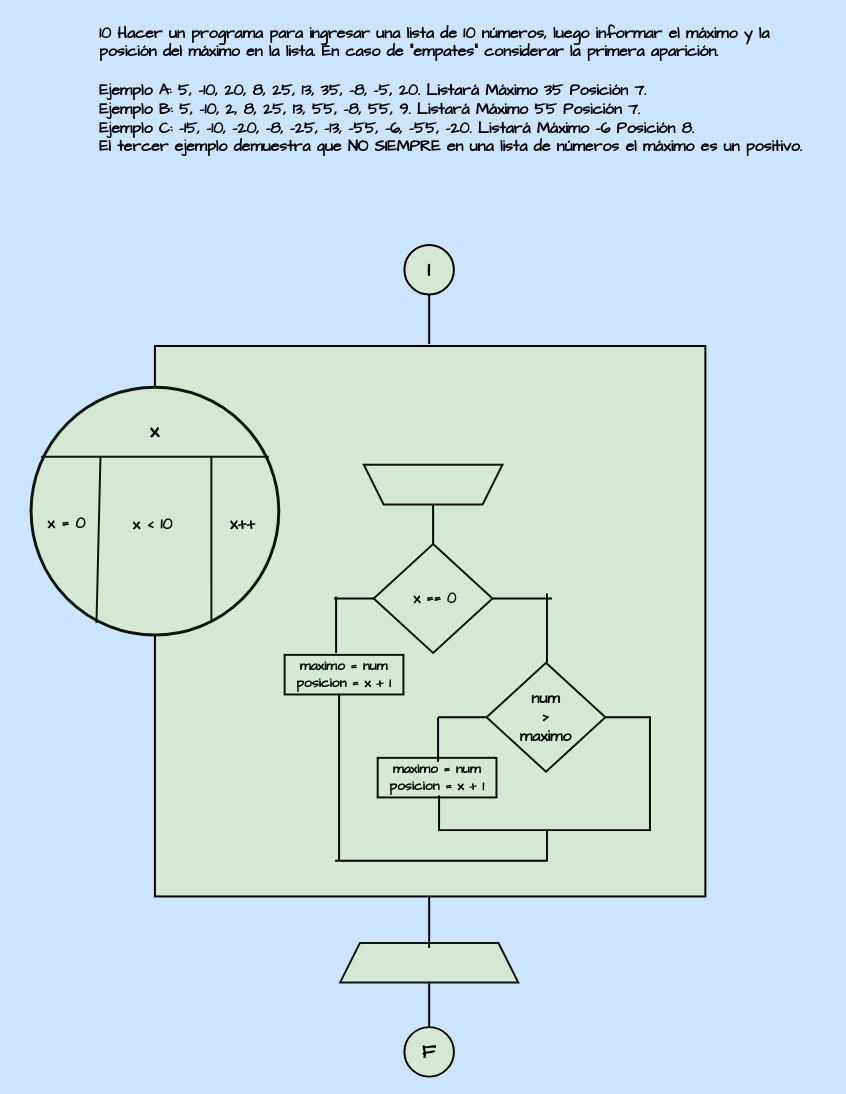
Some shapes in this 846 by 1094 pixel diagram are drawn without their labels. The centre of each missing label's shape, as x and y in pixels:
maximo, posicion: (429,962)
num: (432,484)
